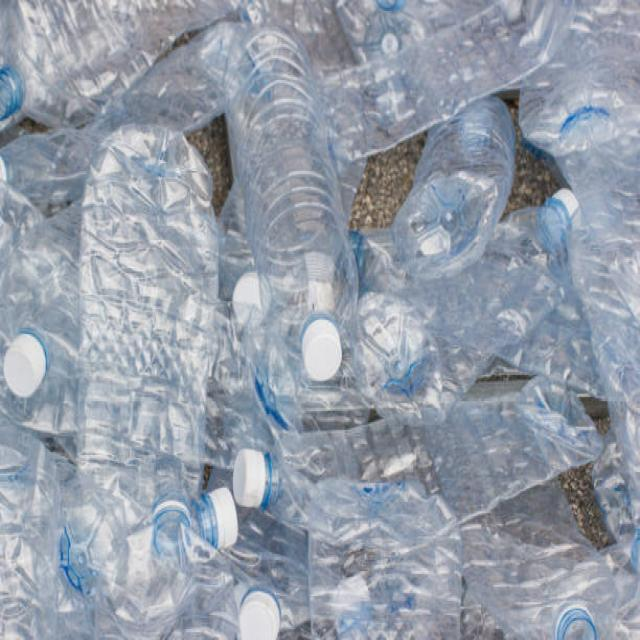plastic: (25, 19, 621, 605)
